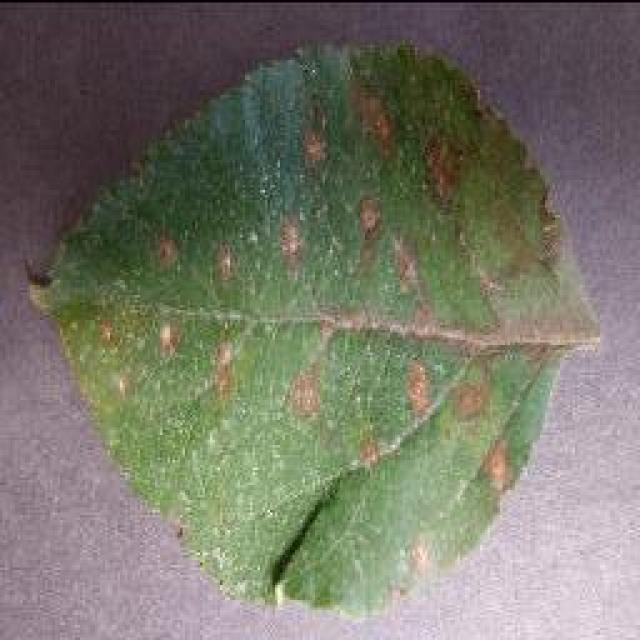apple cedar apple rust: (25, 35, 600, 617)
